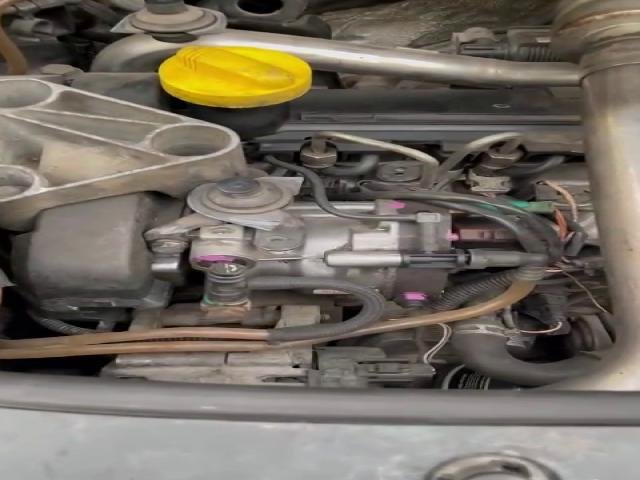alternator: (99, 345, 439, 391)
high_pressure_pump: (181, 198, 468, 310)
